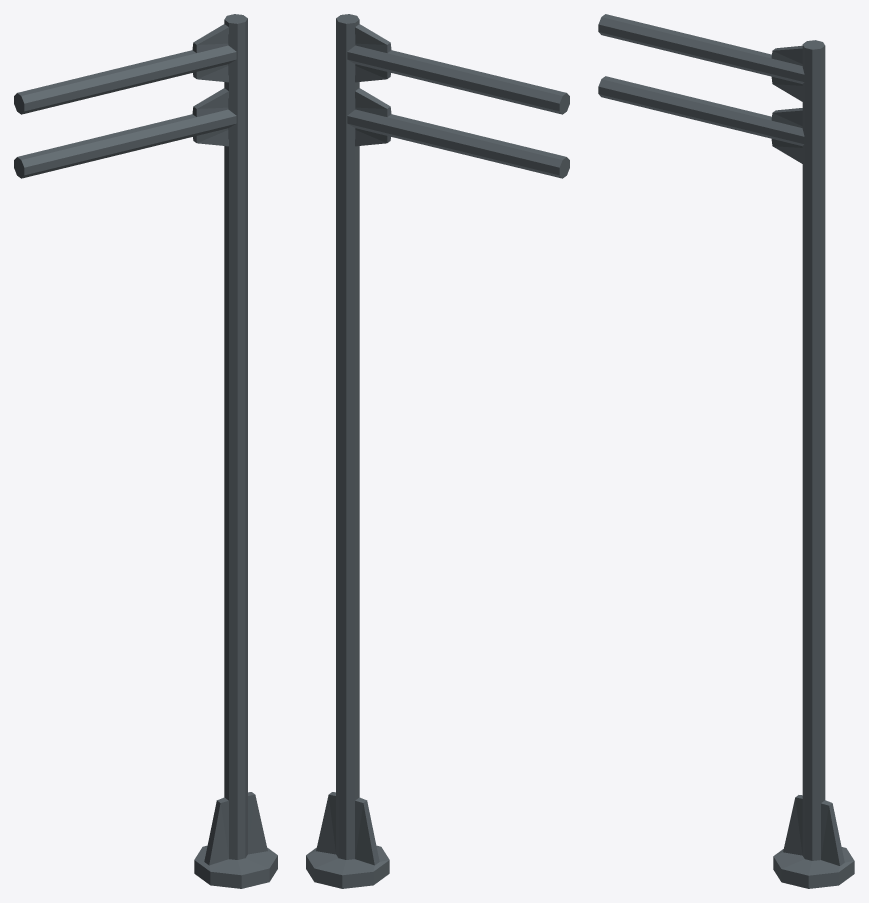
The model's file is SM_Prop_SIgn_Pole_02.fbx.
The picture shows the model from 3 angles, left to right: view 1: azimuth 30°, elevation 25°; view 2: azimuth 150°, elevation 25°; view 3: azimuth 330°, elevation 25°; orthographic projection. The views are drawn at different scales.
Visible parts, largest first — view 1: SM_Prop_SIgn_Pole_02; view 2: SM_Prop_SIgn_Pole_02; view 3: SM_Prop_SIgn_Pole_02.
Boxes of the visible parts, x1=… form: SM_Prop_SIgn_Pole_02: x1=14, y1=14, x2=277, y2=888; SM_Prop_SIgn_Pole_02: x1=306, y1=14, x2=569, y2=888; SM_Prop_SIgn_Pole_02: x1=598, y1=14, x2=854, y2=888.
Bounding box in the file's own units: 186 × 603 × 50.01.
